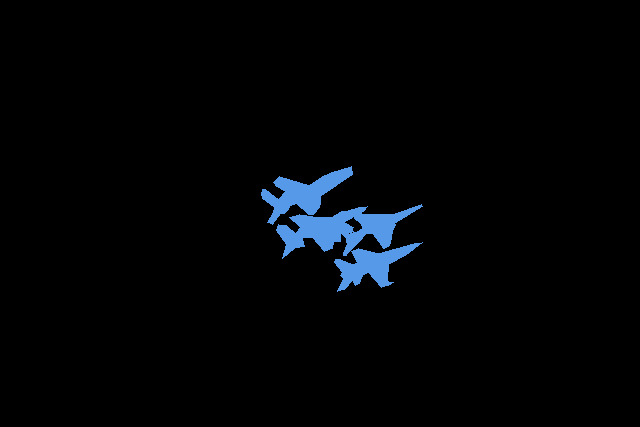Airplane: (261, 166, 352, 224), (276, 206, 367, 259), (334, 242, 423, 292), (338, 204, 423, 255)
